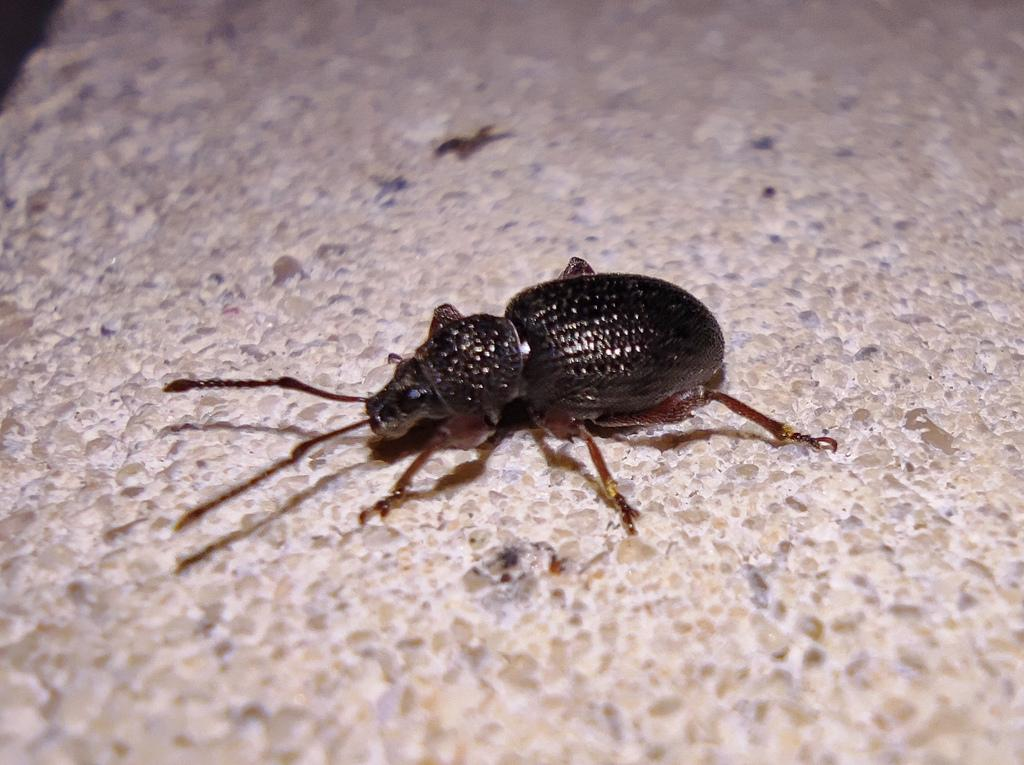weevils: (124, 196, 880, 583)
